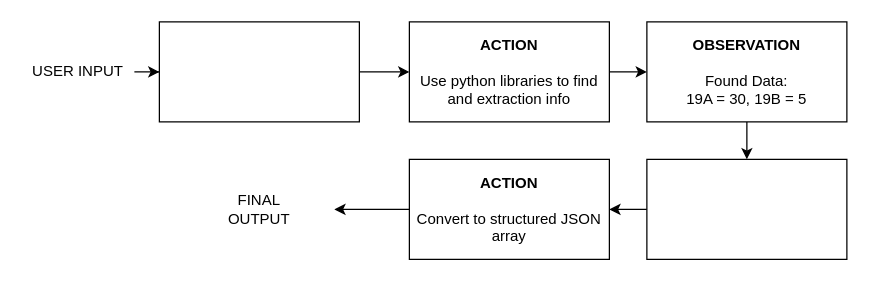
Image size: 869x281. Some labels were removed from this diagram. Here are the shapes that lost their labels. From the top down, the box of each, then its label:
(158, 21, 359, 122): THOUGHT Extract unit names and water values
(646, 158, 847, 259): THOUGHT Check for duplicates
